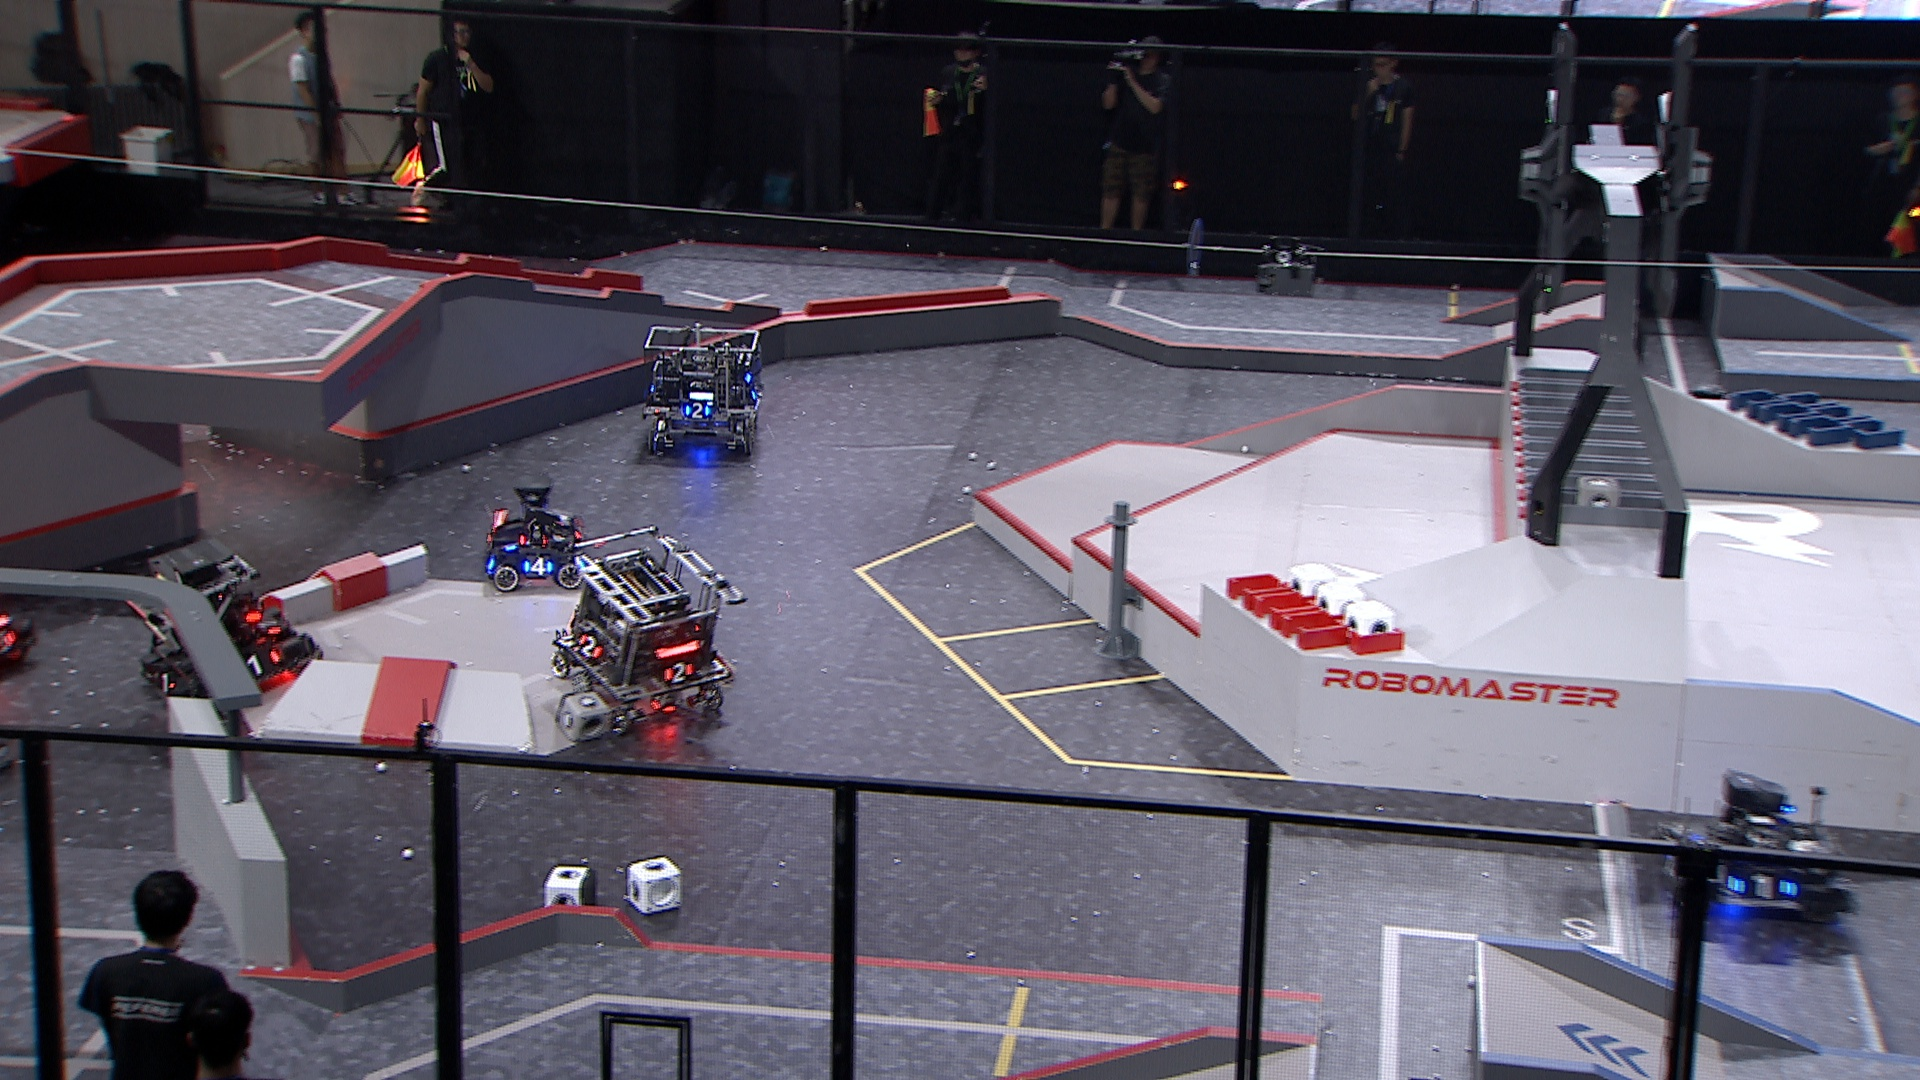armor: (1727, 876, 1797, 902), (243, 647, 281, 678), (520, 556, 556, 579), (659, 662, 694, 684), (576, 632, 603, 661), (679, 400, 713, 419), (152, 671, 175, 695), (256, 615, 281, 636)
car: (550, 524, 746, 733), (113, 541, 320, 713), (1658, 767, 1854, 928), (640, 324, 767, 458), (481, 502, 585, 593), (481, 472, 585, 556)
